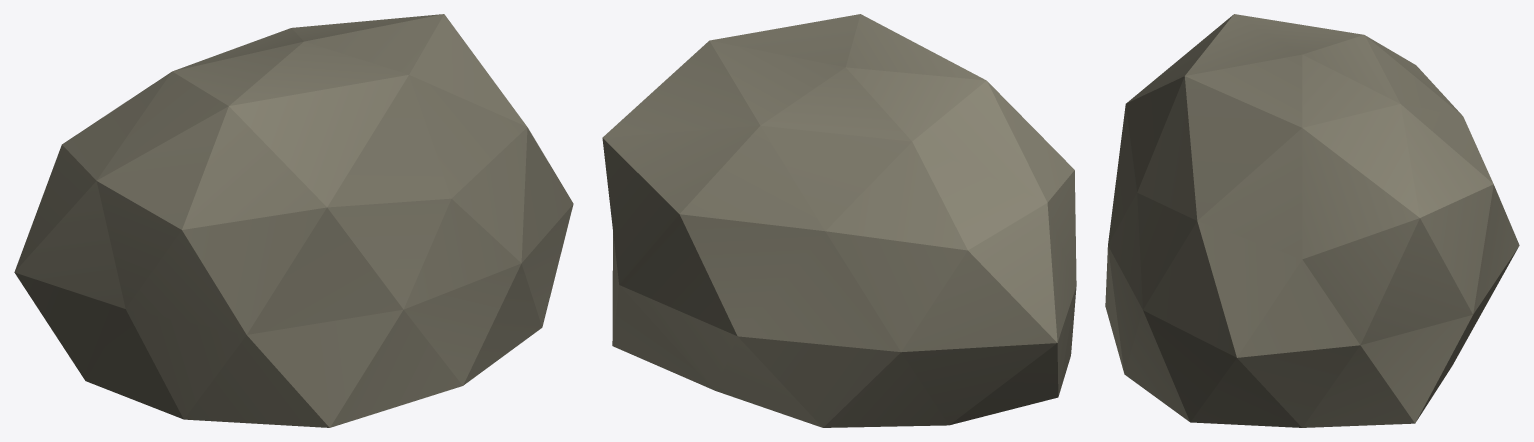
The model's file is rock-a.glb.
The picture shows the model from 3 angles, left to right: view 1: azimuth 30°, elevation 25°; view 2: azimuth 150°, elevation 25°; view 3: azimuth 270°, elevation 25°; orthographic projection. The views are drawn at different scales.
Parts seen in each view (by area): view 1: rock-a; view 2: rock-a; view 3: rock-a.
Part boxes in pixels (x1,y1,x2,y2): rock-a: (14, 14, 573, 427); rock-a: (602, 14, 1076, 427); rock-a: (1105, 14, 1519, 427).
Size of the model in its own units: 0.8539 by 0.4902 by 0.6401.
